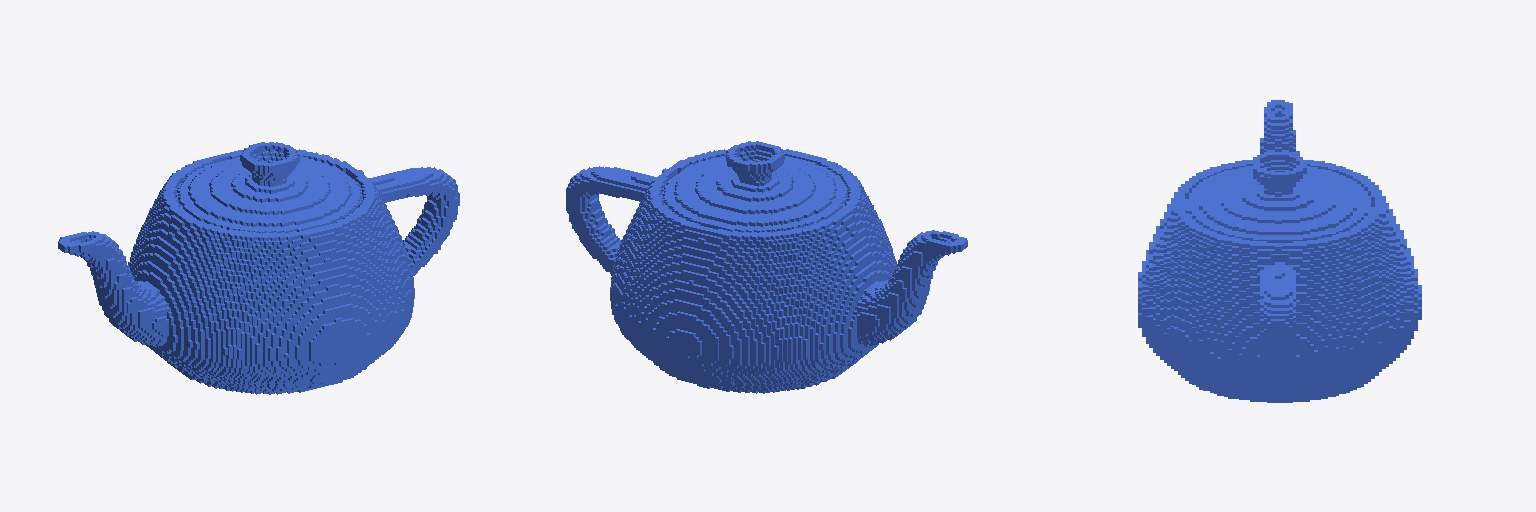
3 renders of one model, left to right at view 1: azimuth 30°, elevation 25°; view 2: azimuth 150°, elevation 25°; view 3: azimuth 270°, elevation 25°, orthographic.
Parts seen in each view (by area): view 1: object 1; view 2: object 1; view 3: object 1.
Boxes of the visible parts, x1,y1,x2,y2 form: object 1: [58, 142, 459, 394]; object 1: [566, 141, 967, 393]; object 1: [1138, 100, 1421, 402].
Bounding box in the file's own units: 12.6 × 6.1 × 7.9.
1 materials, 1 textured.